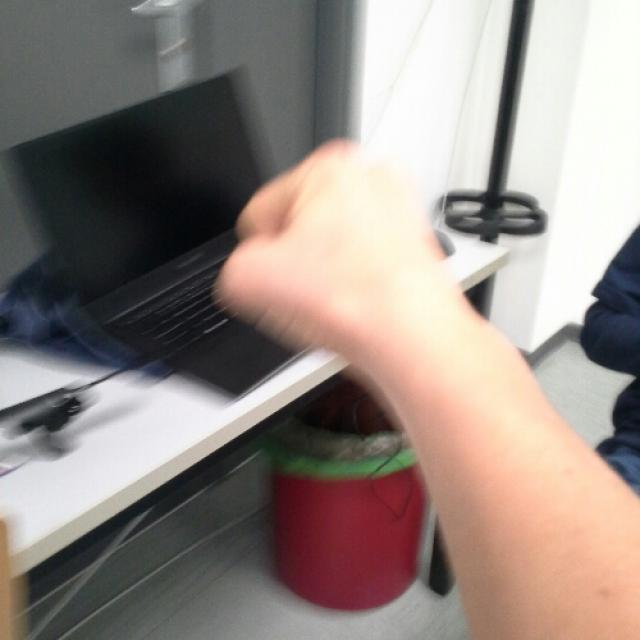rock: (219, 137, 462, 360)
